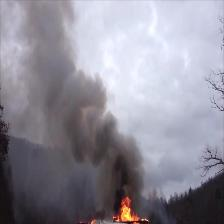fire: (116, 195, 137, 219)
smoke: (21, 1, 75, 124), (76, 71, 106, 165), (107, 116, 140, 188)
